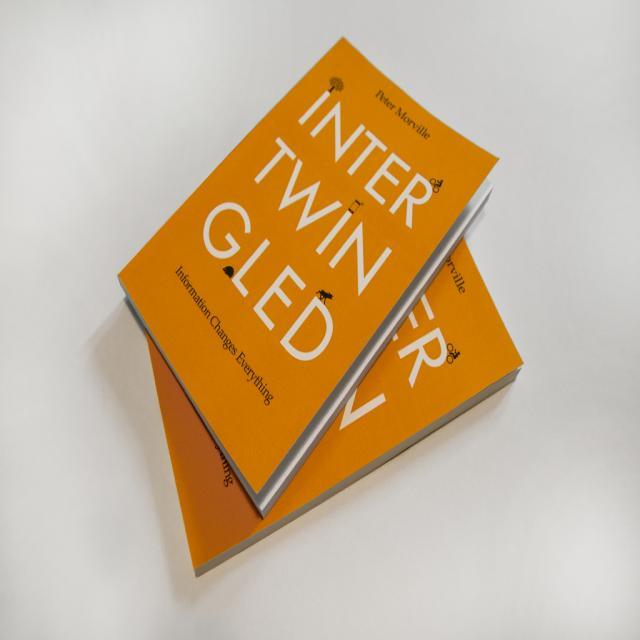book: (116, 36, 501, 520), (140, 237, 527, 580)
